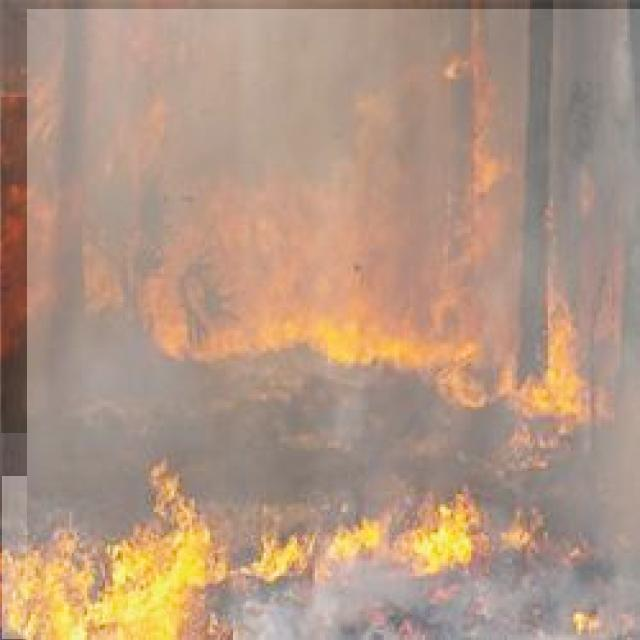Fire: (1, 97, 614, 433), (2, 476, 225, 639), (255, 498, 506, 576)
Smoke: (27, 9, 640, 640)
